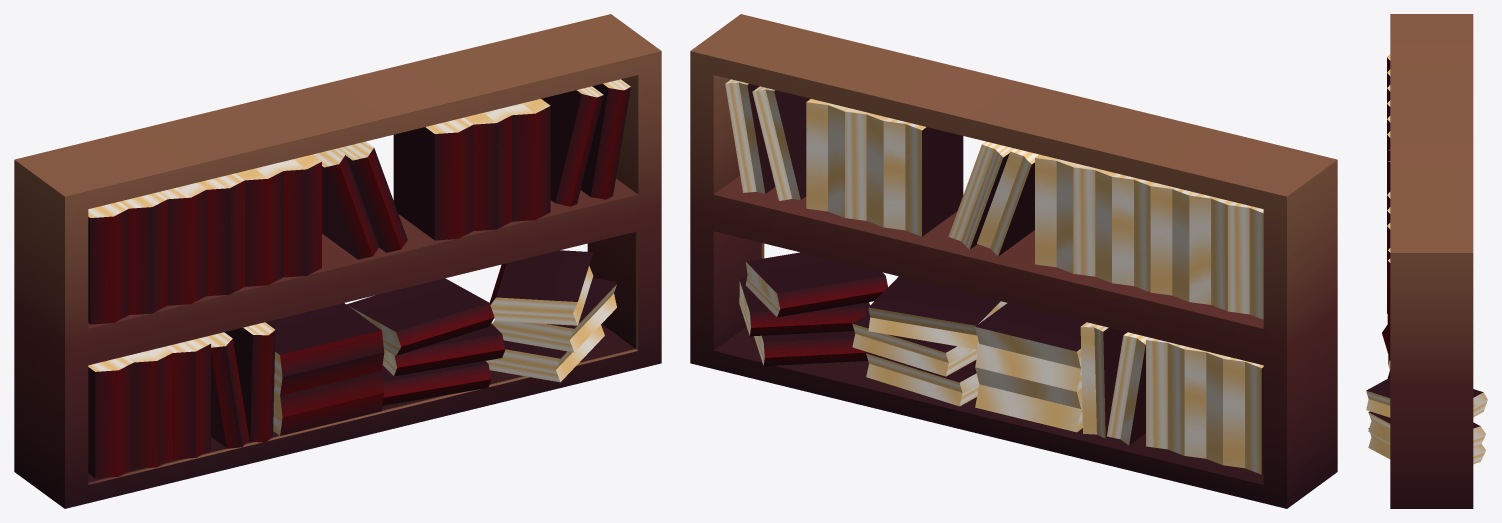
Rendered from estante.fbx.
3 renders of one model, left to right at view 1: azimuth 30°, elevation 25°; view 2: azimuth 150°, elevation 25°; view 3: azimuth 270°, elevation 25°, orthographic. The views are drawn at different scales.
Visible parts, largest first — view 1: Estante; view 2: Estante; view 3: Estante.
Part boxes in pixels (x1,y1,x2,y2): Estante: (14,14,661,508); Estante: (690,14,1337,508); Estante: (1366,14,1487,508).
Size of the model in its own units: 400 by 86.26 by 200.
